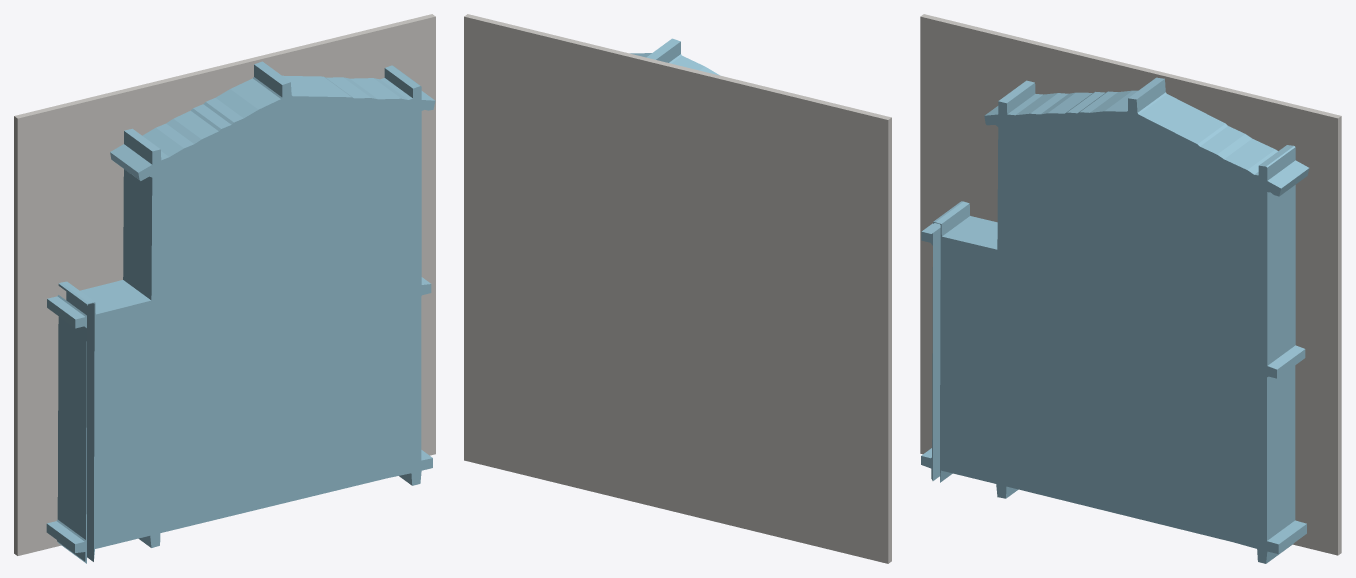
3 views of the same model, side by side, from view 1: azimuth 30°, elevation 25°; view 2: azimuth 150°, elevation 25°; view 3: azimuth 330°, elevation 25° (orthographic).
Parts seen in each view (by area): view 1: world; view 2: world; view 3: world.
Boxes of the visible parts, x1=… form: world: x1=14, y1=14, x2=435, y2=563; world: x1=464, y1=14, x2=891, y2=563; world: x1=920, y1=14, x2=1341, y2=563.
Size of the model in its own units: 10.23 by 10.23 by 1.35.
